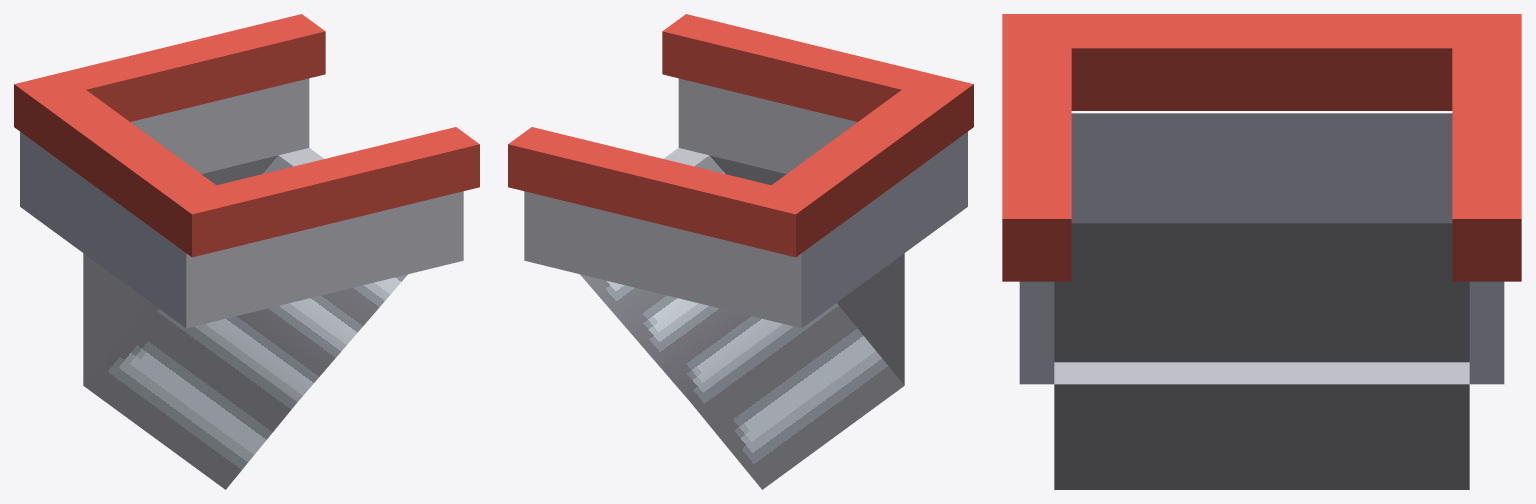
3 views of the same model, side by side, from view 1: azimuth 30°, elevation 25°; view 2: azimuth 150°, elevation 25°; view 3: azimuth 270°, elevation 25° (orthographic). The views are drawn at different scales.
Size of the model in its own units: 1.75 by 1.75 by 1.88.
Materials: 1 (1 with a texture image).
